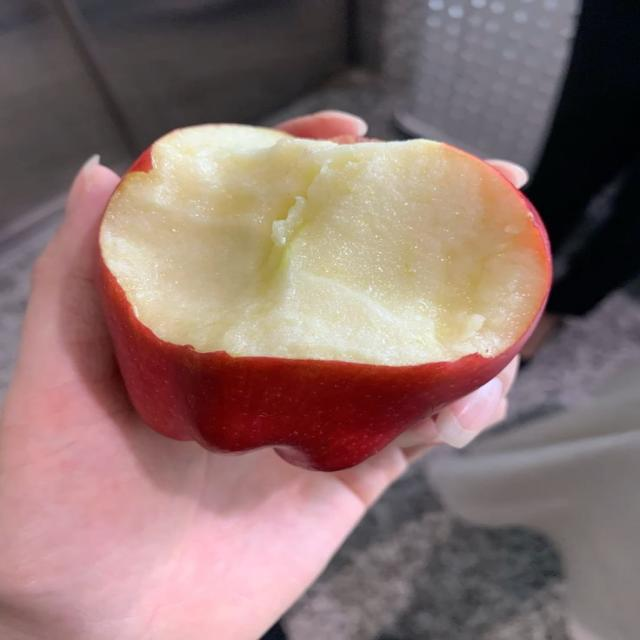apple: (100, 126, 550, 470)
